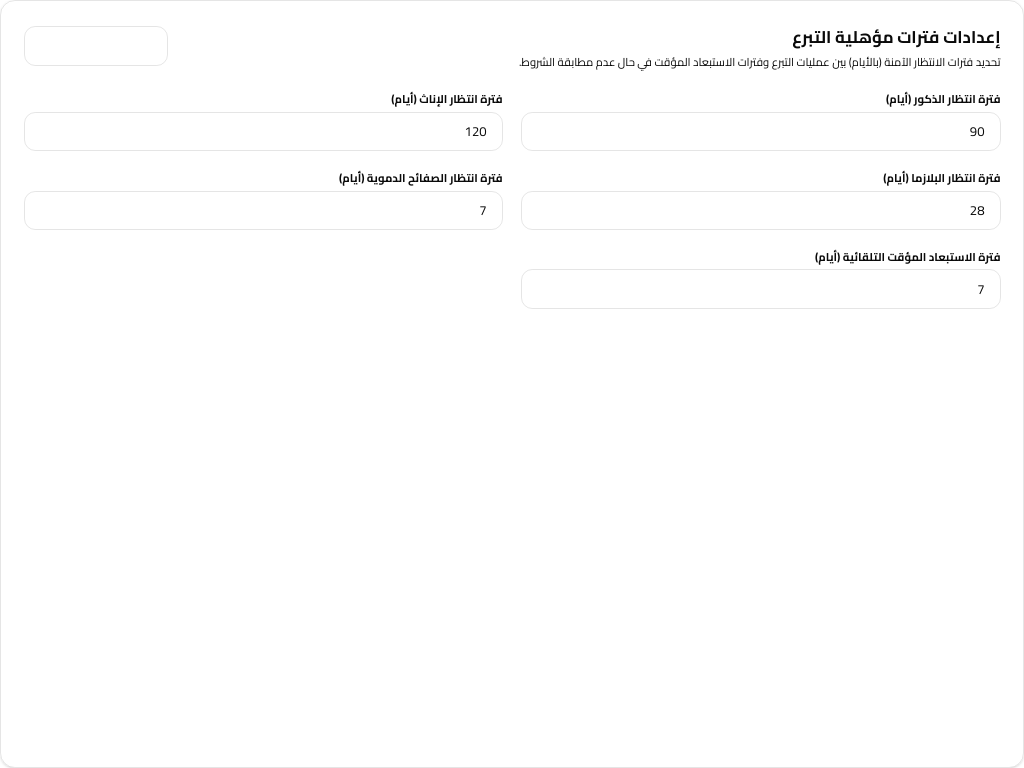
EligibilityTab Component › displays server-side validation errors
This screenshot has width=1024, height=768.
Note: Change value to trigger hasUnsavedChanges
Replace the text in the number field showing "90" below "فترة انتظار الذكور (أيام)" with "95" at [761, 131], box x1=521 y1=112 x2=1000 y2=151
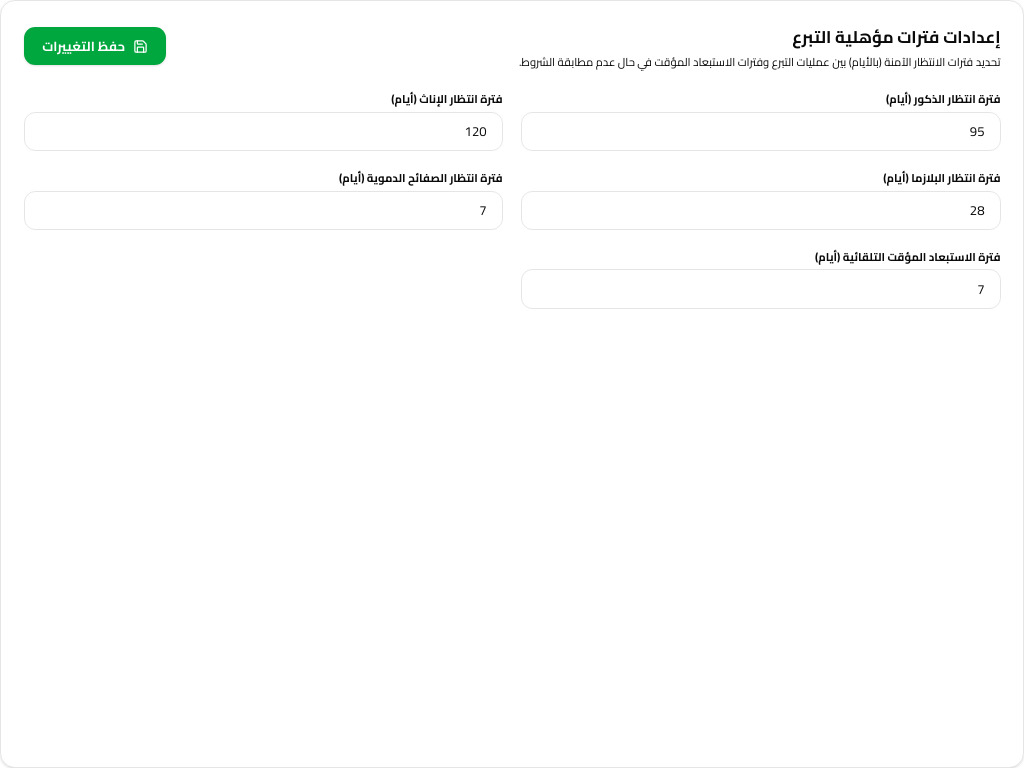
Click the button "حفظ التغييرات" at [95, 46], box x1=24 y1=27 x2=166 y2=65
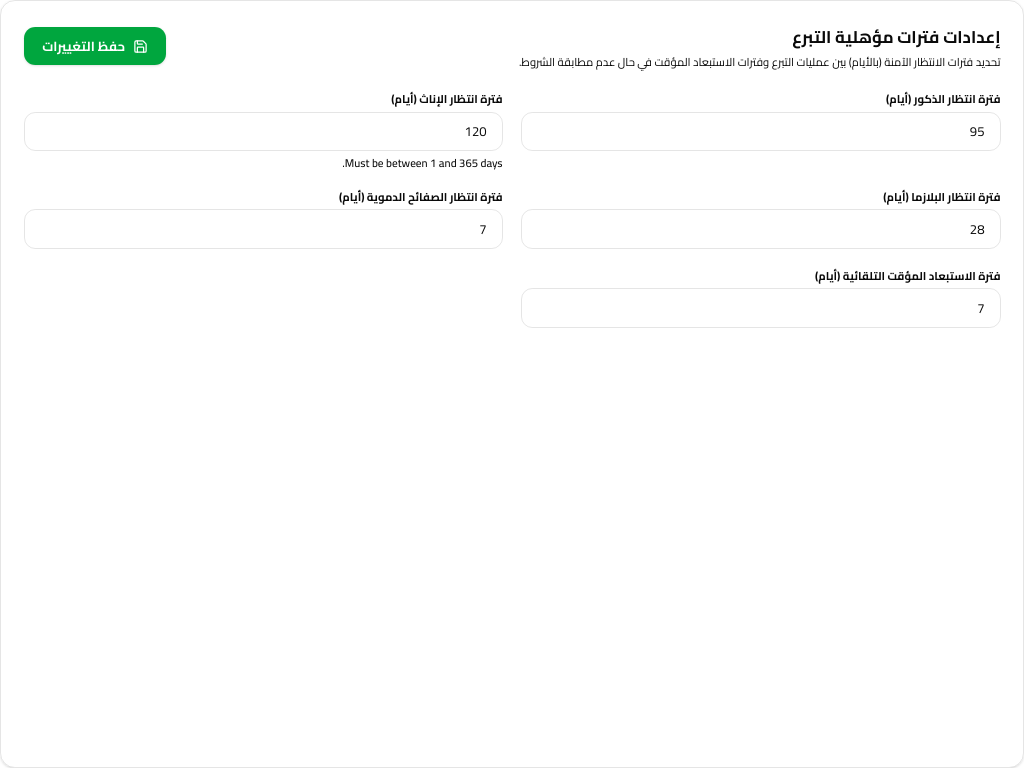
Now the text "Must be between 1 and 365 days." is shown, box x1=342 y1=152 x2=503 y2=173
